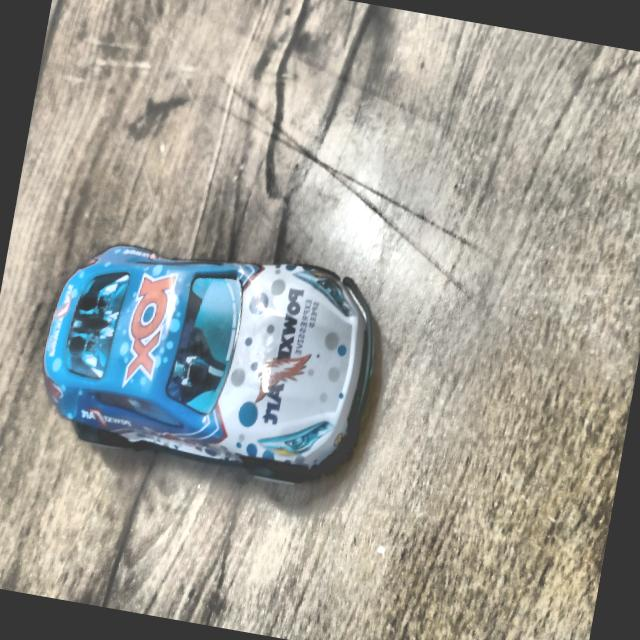Car: (27, 218, 388, 502)
